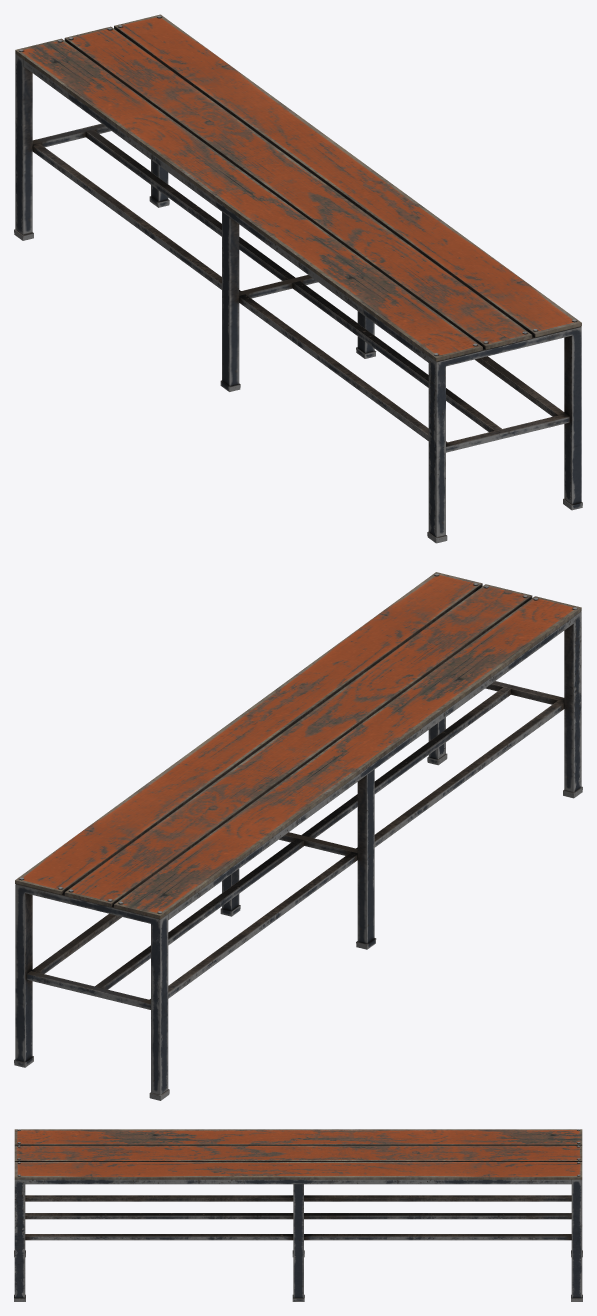
3 views of the same model, one above another, from view 1: azimuth 30°, elevation 25°; view 2: azimuth 150°, elevation 25°; view 3: azimuth 270°, elevation 25° (orthographic). The views are drawn at different scales.
Visible parts, largest first — view 1: bench_old_bench_0; view 2: bench_old_bench_0; view 3: bench_old_bench_0.
Part boxes in pixels (x1,y1,x2,y2): bench_old_bench_0: [14, 14, 582, 543]; bench_old_bench_0: [14, 572, 582, 1100]; bench_old_bench_0: [14, 1129, 582, 1301].
Bounding box in the file's own units: 0.1967 × 0.2378 × 0.9796.
Materials: 1 (1 with a texture image).
